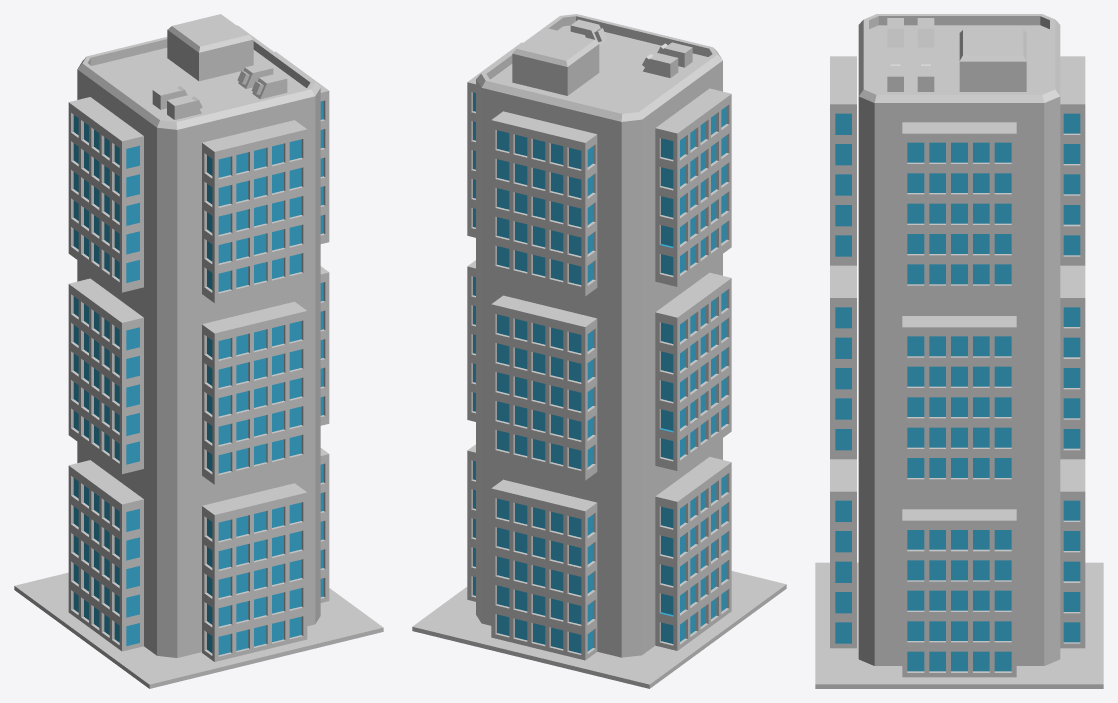
File: Chroma Skyscraper B.fbx
3 views of the same model, side by side, from view 1: azimuth 30°, elevation 25°; view 2: azimuth 150°, elevation 25°; view 3: azimuth 270°, elevation 25° (orthographic). The views are drawn at different scales.
Visible parts, largest first — view 1: Skyscraper Block.001, Skyscraper Block, Skyscraper Base; view 2: Skyscraper Block.001, Skyscraper Block, Skyscraper Base; view 3: Skyscraper Block.001, Skyscraper Block, Skyscraper Base.
Part boxes in pixels (bbox=[...]): Skyscraper Block.001: bbox=[68, 51, 329, 661]; Skyscraper Block: bbox=[77, 14, 320, 657]; Skyscraper Base: bbox=[14, 572, 383, 688]; Skyscraper Block.001: bbox=[467, 42, 731, 660]; Skyscraper Block: bbox=[476, 14, 722, 657]; Skyscraper Base: bbox=[412, 571, 786, 688]; Skyscraper Block.001: bbox=[830, 56, 1085, 677]; Skyscraper Block: bbox=[858, 14, 1060, 665]; Skyscraper Base: bbox=[815, 562, 1103, 688].
Bounding box in the file's own units: 858 × 1970 × 858.
